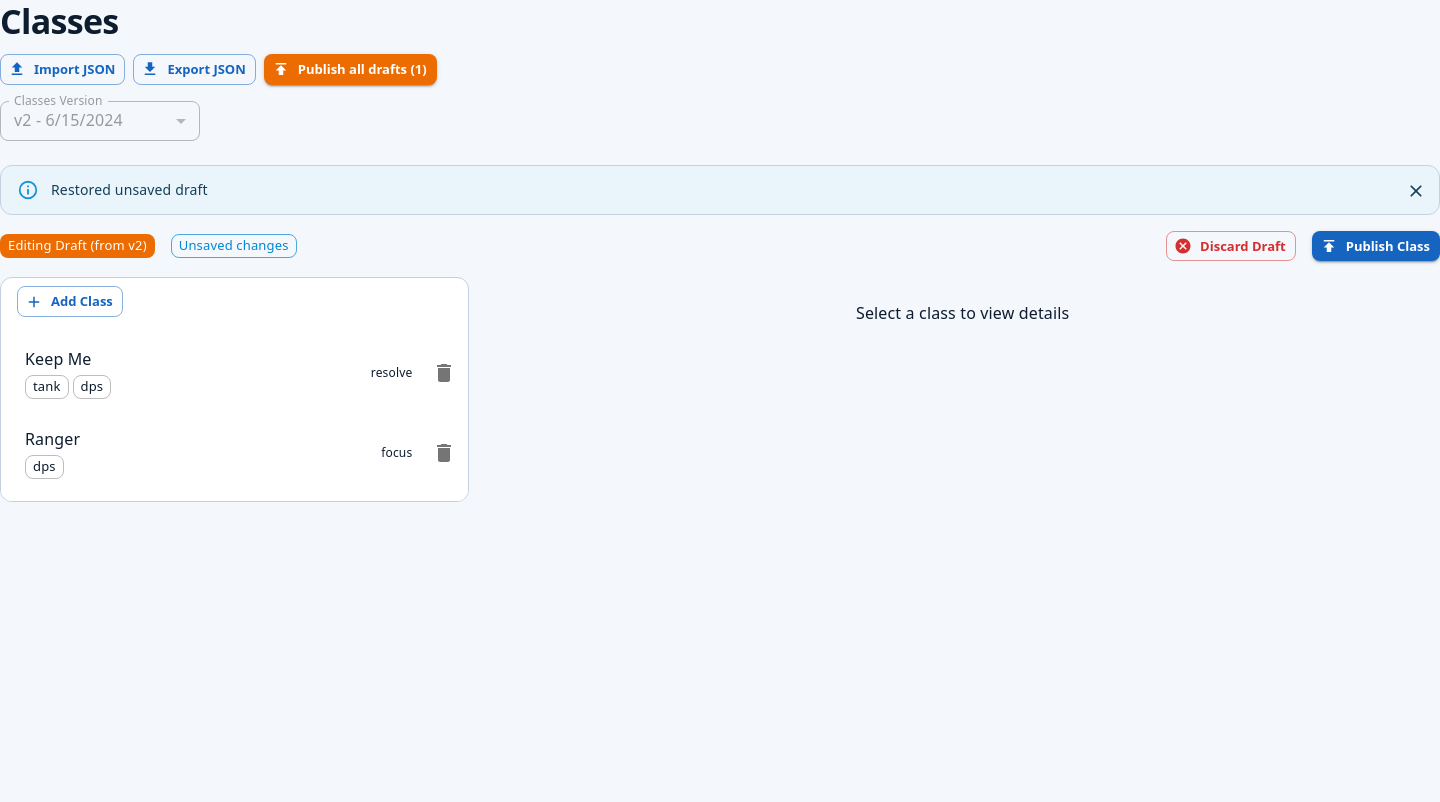
Test: Draft persistence (MMO-29) › does not restore a draft when publish fails
Click the text "Keep Me": (58, 359) [25, 348, 92, 370]
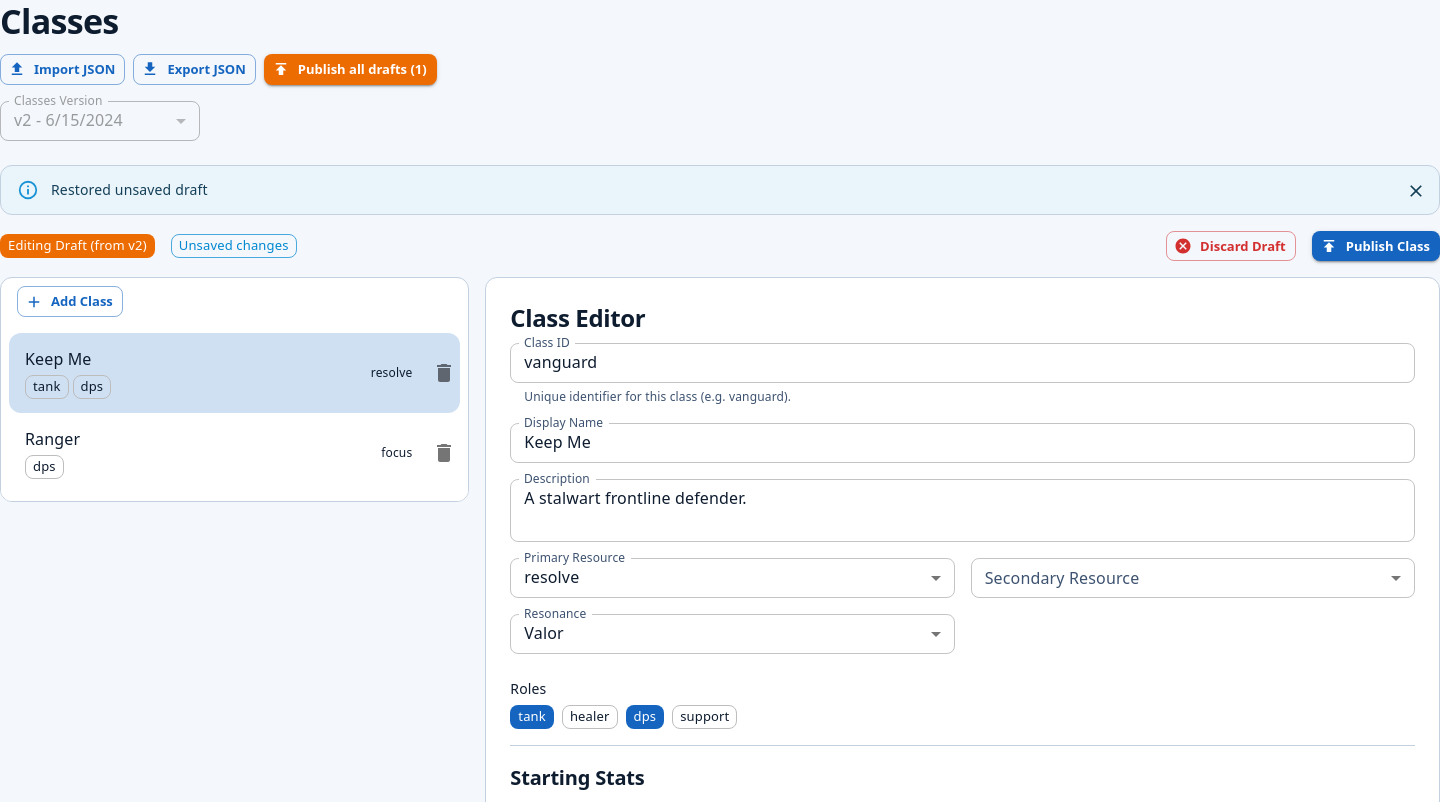
Click the button "Publish Class": (1376, 246) [1312, 231, 1439, 261]
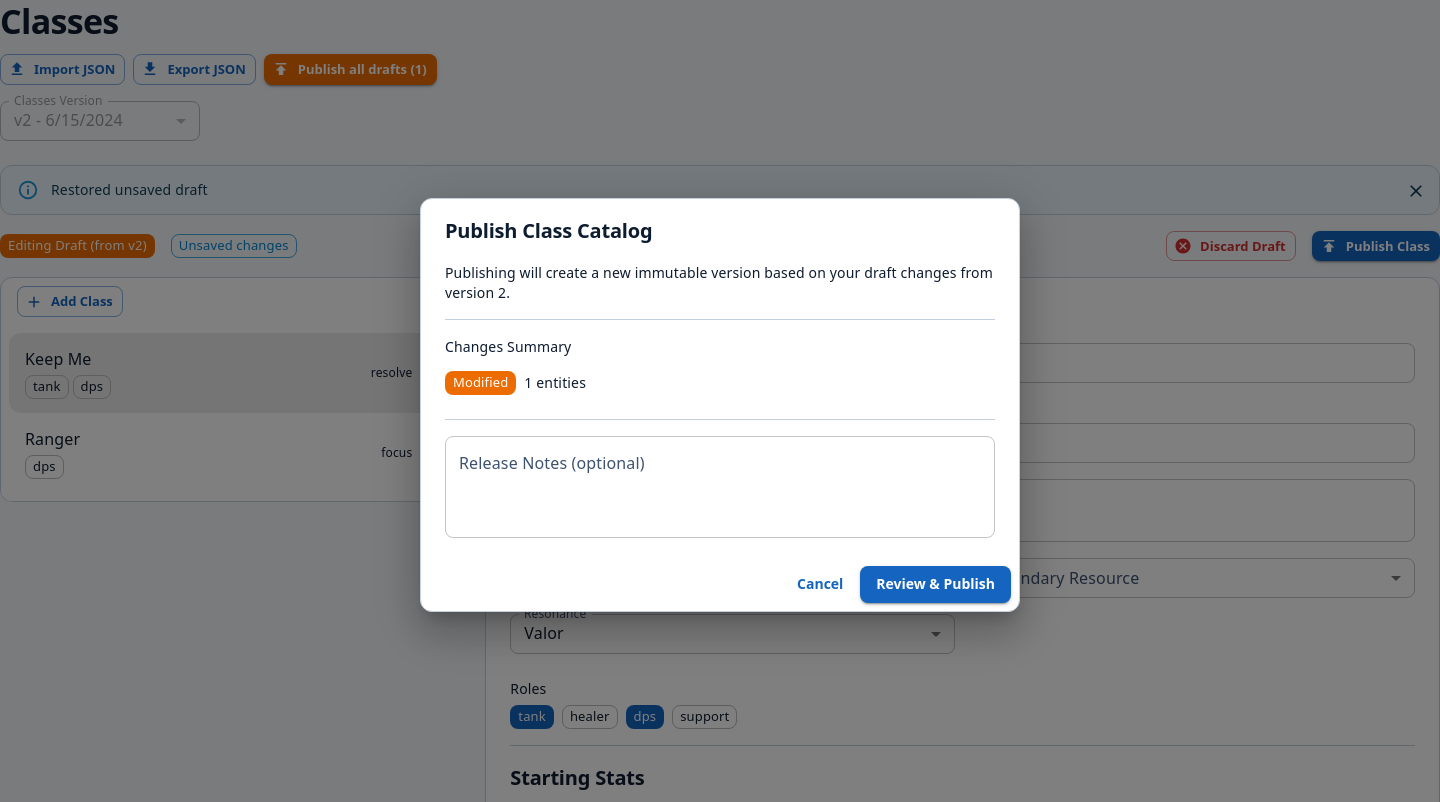
Click the button "Review & Publish": (936, 584) [860, 566, 1011, 603]
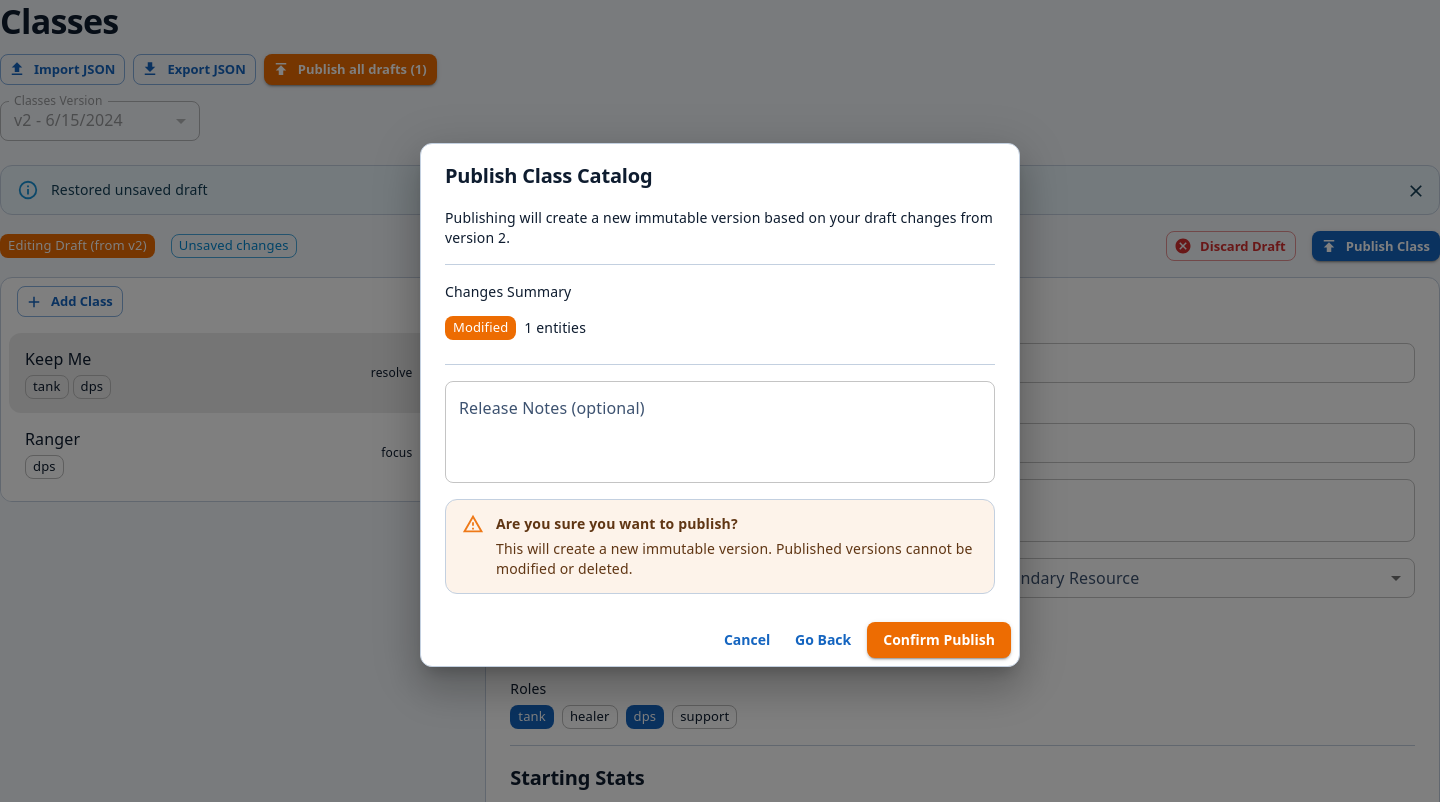
Click the button "Confirm Publish": (939, 640) [867, 622, 1011, 658]
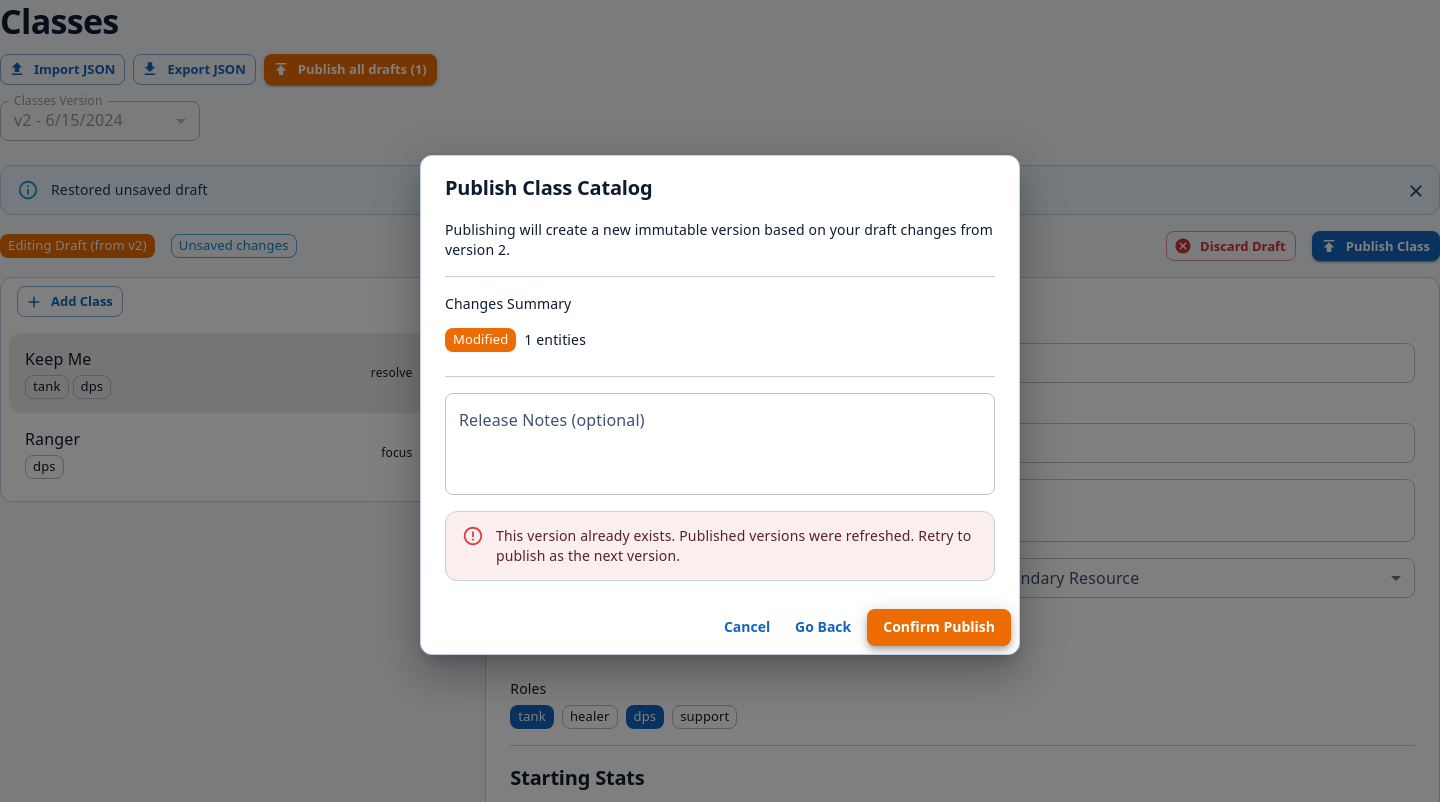
expect the text "Keep Me" is shown: met, box [25, 348, 92, 370]
expect the text "This version already exists" is shown: met, box [496, 526, 971, 565]
